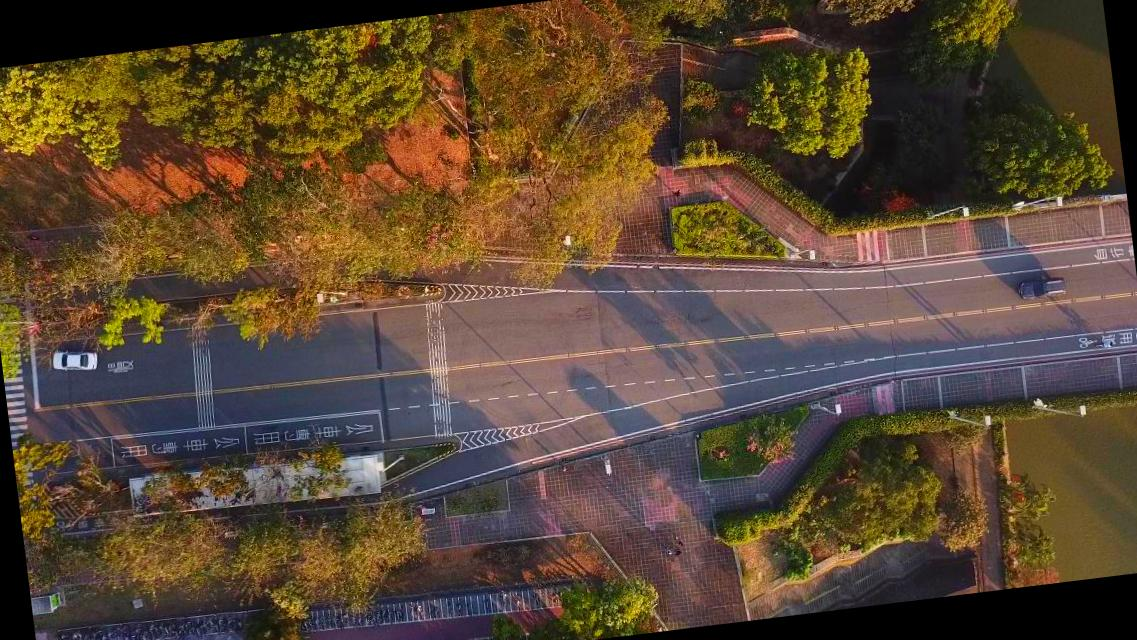vehicle: (49, 346, 97, 374), (1016, 275, 1066, 300)
